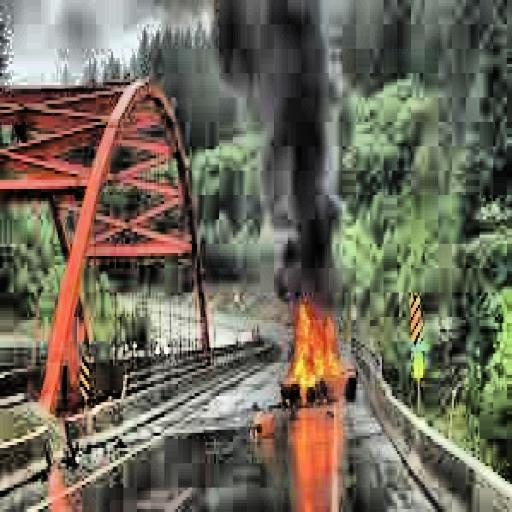fire: (276, 298, 363, 414)
